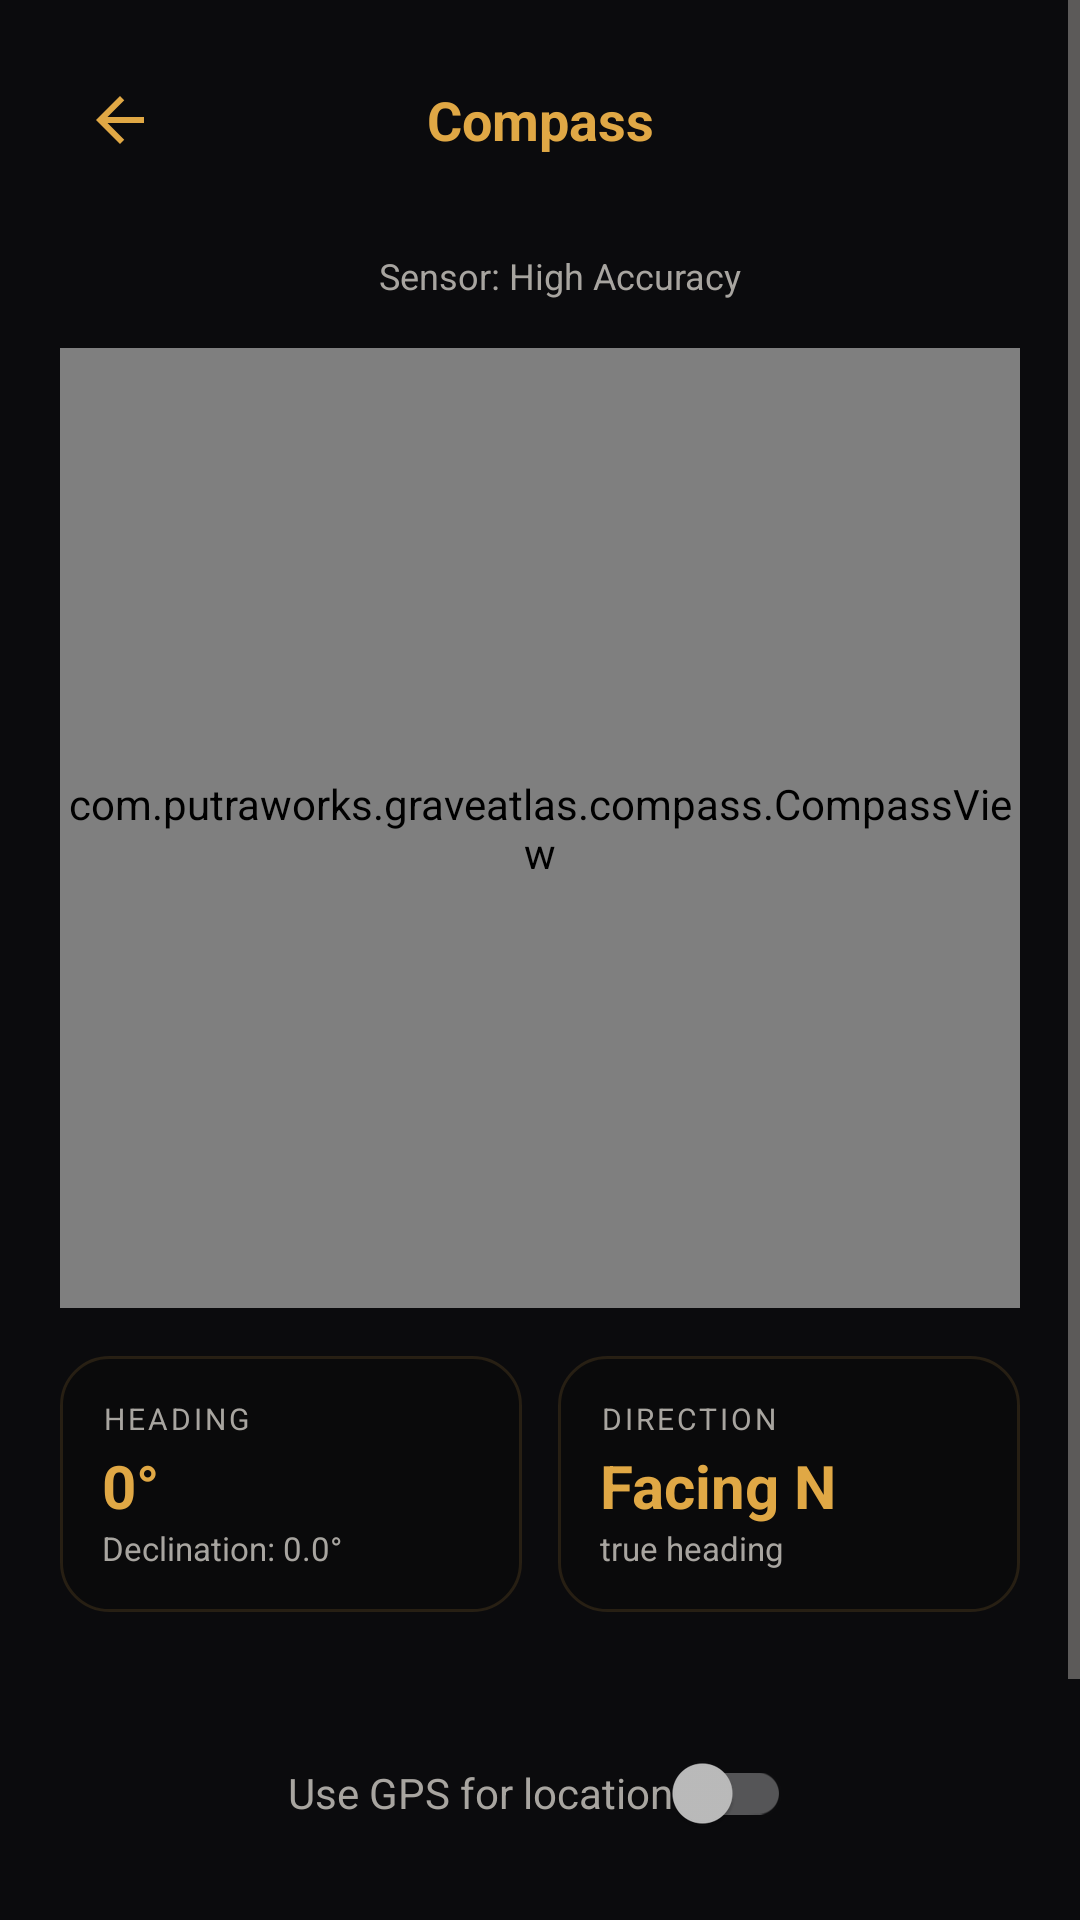

Screen size 1080 × 1920. Icon name, then its box in pixels as rect(x1, y1, x2, y2):
back: rect(96, 96, 144, 144)
